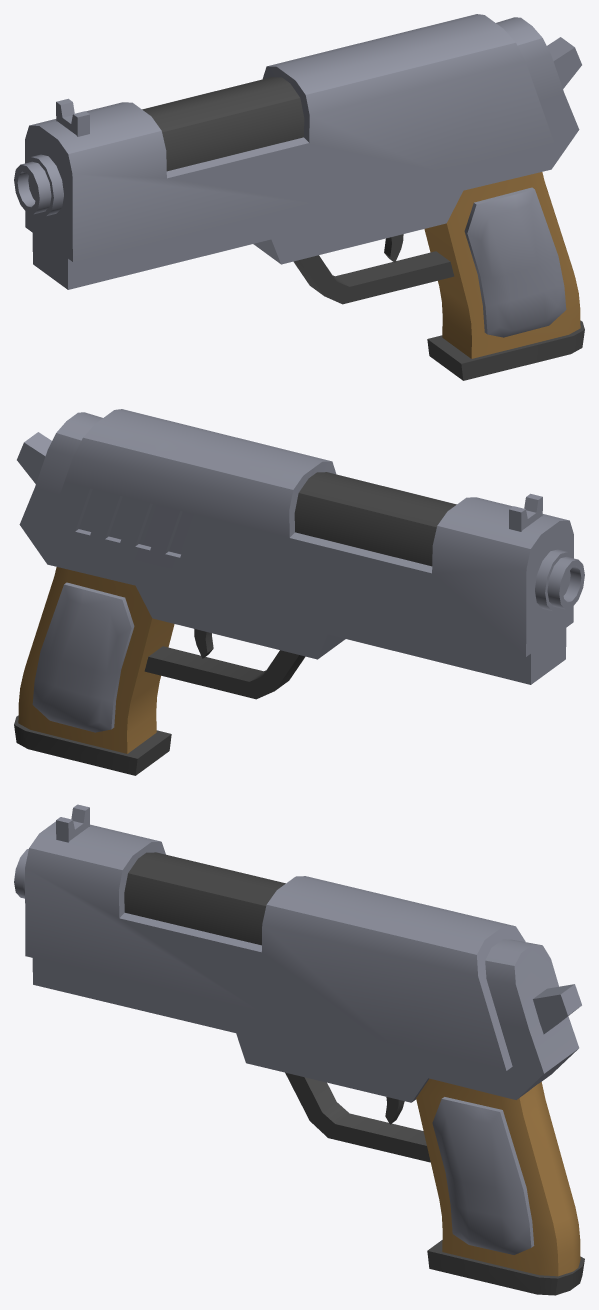
The model's file is quaternius-toon-shooter-game-pistol.glb.
3 views of the same model, one above another, from view 1: azimuth 30°, elevation 25°; view 2: azimuth 150°, elevation 25°; view 3: azimuth 330°, elevation 25° (orthographic).
Parts seen in each view (by area): view 1: Pistol; view 2: Pistol; view 3: Pistol.
Boxes of the visible parts, <box> form: Pistol: <box>14,14,584,380</box>; Pistol: <box>14,409,584,775</box>; Pistol: <box>14,804,584,1295</box>.
Size of the model in its own units: 0.7909 by 0.4822 by 0.1181.
